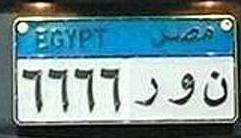6: (98, 65, 126, 113), (73, 63, 97, 113), (21, 65, 45, 113), (48, 65, 71, 114)
noon: (199, 65, 230, 110)
raa: (133, 70, 162, 111)
waw: (167, 70, 195, 105)
